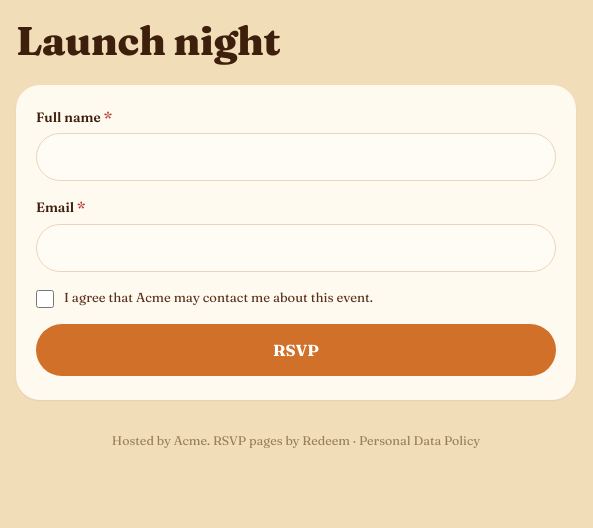
Scenario: RsvpPublicPage › a consent_changed refusal swaps in the wording the server holds now
Expected: the heading "Launch night" is shown, [16,16,280,65]
In the field labelled "Full name *": {"x": 296, "y": 157} [36,133,556,181], type "Alice"
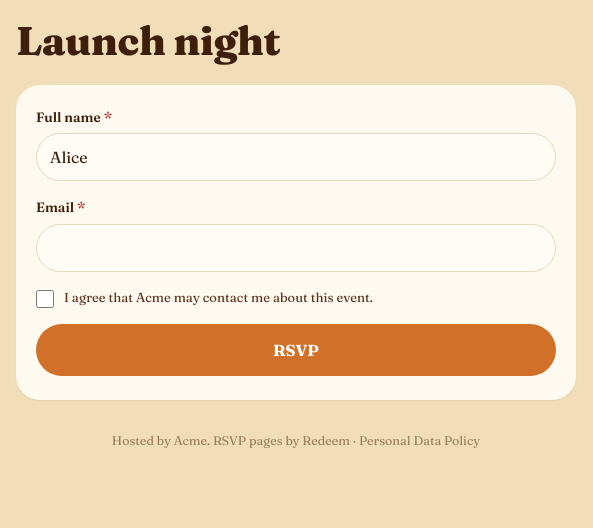
In the field labelled "Email *": {"x": 296, "y": 248} [36,224,556,272], type "alice@example.com"
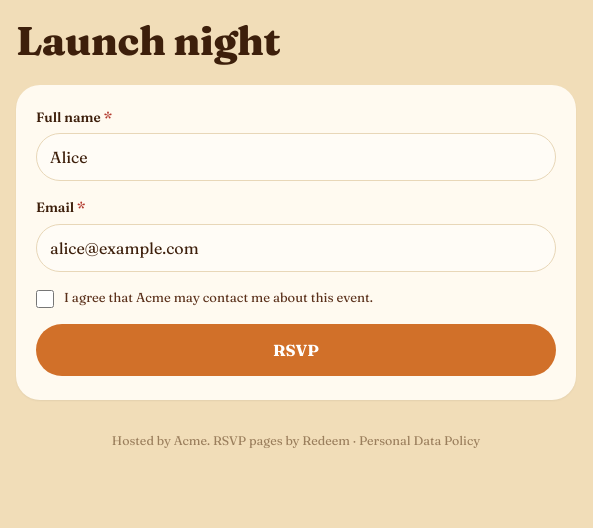
Click the checkbox labelled "I agree that Acme may contact me about this event.": {"x": 45, "y": 298} [36,290,54,308]
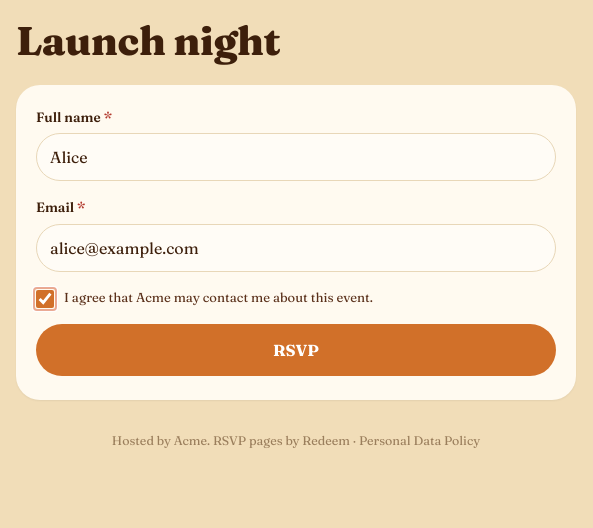
Click the button "RSVP": {"x": 296, "y": 350} [36,324,556,376]
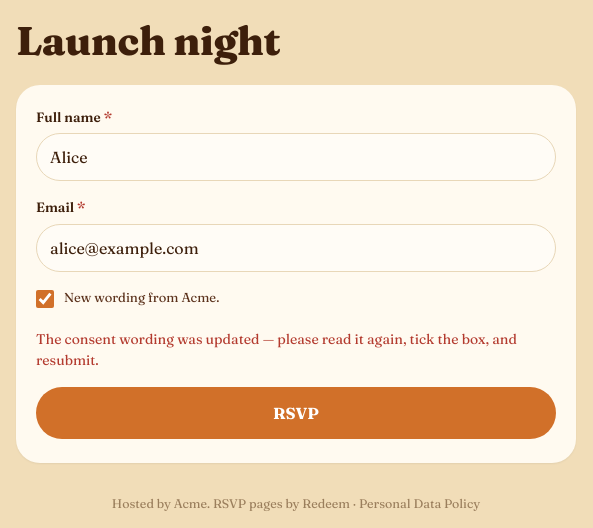
Expected: the checkbox labelled "New wording from Acme." is shown, [36,290,54,308]
Expected: the text "consent wording was updated" is shown, [36,330,517,368]
